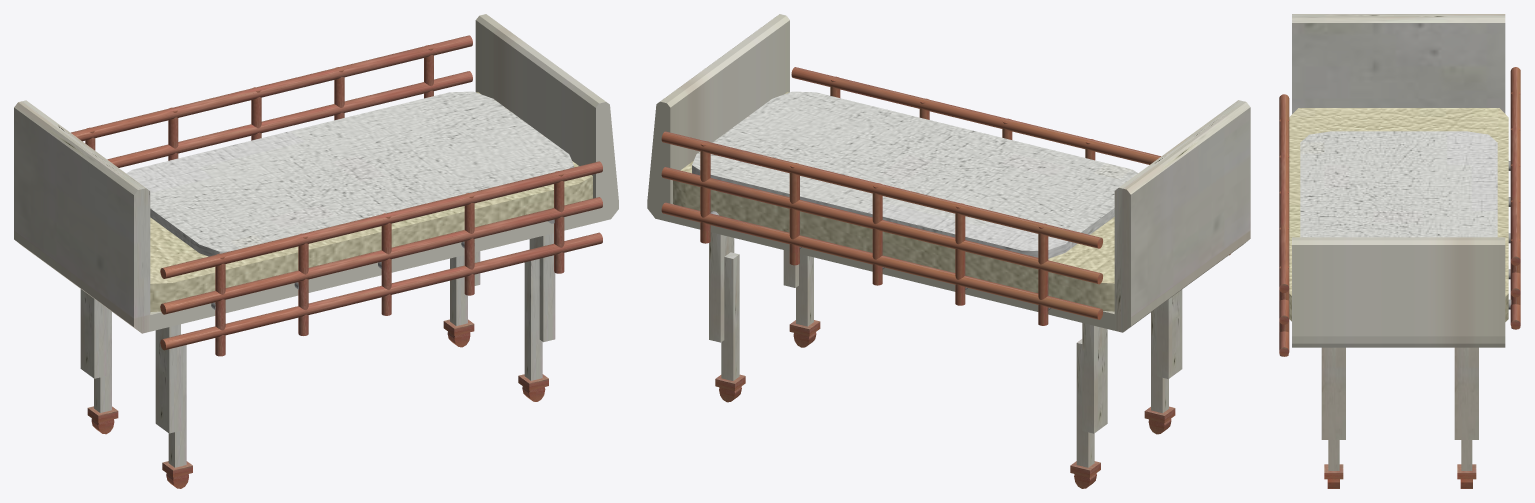
The model's file is cama hospital.fbx.
The picture shows the model from 3 angles, left to right: view 1: azimuth 30°, elevation 25°; view 2: azimuth 150°, elevation 25°; view 3: azimuth 270°, elevation 25°; orthographic projection. The views are drawn at different scales.
Visible parts, largest first — view 1: pCube456, pCube438, pCube436, pCylinder49, pCylinder50, pCylinder51, pCylinder52, pCylinder53, pCube444, pCube440, pCube453, pCube452 (+8 smaller); view 2: pCube456, pCube438, pCube436, pCylinder52, pCylinder54, pCylinder53, pCylinder49, pCube440, pCube449, pCube444, pCube448, pCube441 (+7 smaller); view 3: pCube438, pCube456, pCube436, pCube448, pCube452, pCylinder52, pCylinder49, pCube449, pCube453, pCylinder51, pCylinder53, pCylinder50 (+1 smaller).
Part boxes in pixels (x1=…): pCube456: x1=126, y1=91, x2=573, y2=256; pCube438: x1=14, y1=14, x2=618, y2=333; pCube436: x1=150, y1=92, x2=592, y2=312; pCylinder49: x1=160, y1=161, x2=602, y2=278; pCylinder50: x1=160, y1=197, x2=602, y2=314; pCylinder51: x1=160, y1=232, x2=602, y2=350; pCylinder52: x1=71, y1=35, x2=472, y2=141; pCylinder53: x1=107, y1=71, x2=472, y2=167; pCube444: x1=155, y1=324, x2=180, y2=433; pCube440: x1=80, y1=289, x2=106, y2=378; pCube453: x1=524, y1=259, x2=542, y2=380; pCube452: x1=529, y1=233, x2=555, y2=342; pCube456: x1=692, y1=91, x2=1137, y2=258; pCube438: x1=647, y1=14, x2=1250, y2=332; pCube436: x1=673, y1=92, x2=1114, y2=311; pCylinder52: x1=661, y1=131, x2=1102, y2=248; pCylinder54: x1=661, y1=202, x2=1102, y2=319; pCylinder53: x1=661, y1=167, x2=1102, y2=284; pCylinder49: x1=791, y1=67, x2=1160, y2=164; pCube440: x1=1082, y1=323, x2=1107, y2=433; pCube449: x1=721, y1=252, x2=739, y2=380; pCube444: x1=1157, y1=289, x2=1182, y2=378; pCube448: x1=709, y1=232, x2=734, y2=342; pCube441: x1=1076, y1=339, x2=1094, y2=467; pCube438: x1=1292, y1=14, x2=1505, y2=347; pCube456: x1=1300, y1=131, x2=1497, y2=237; pCube436: x1=1289, y1=108, x2=1508, y2=321; pCube448: x1=1454, y1=347, x2=1478, y2=439; pCube452: x1=1321, y1=347, x2=1345, y2=439; pCylinder52: x1=1510, y1=67, x2=1520, y2=265; pCylinder49: x1=1279, y1=94, x2=1289, y2=292; pCube449: x1=1461, y1=440, x2=1472, y2=470; pCube453: x1=1328, y1=440, x2=1339, y2=470; pCylinder51: x1=1279, y1=321, x2=1289, y2=356; pCylinder53: x1=1510, y1=262, x2=1520, y2=297; pCylinder50: x1=1279, y1=289, x2=1289, y2=324.
Size of the model in its own units: 11.06 by 7.17 by 5.37.
